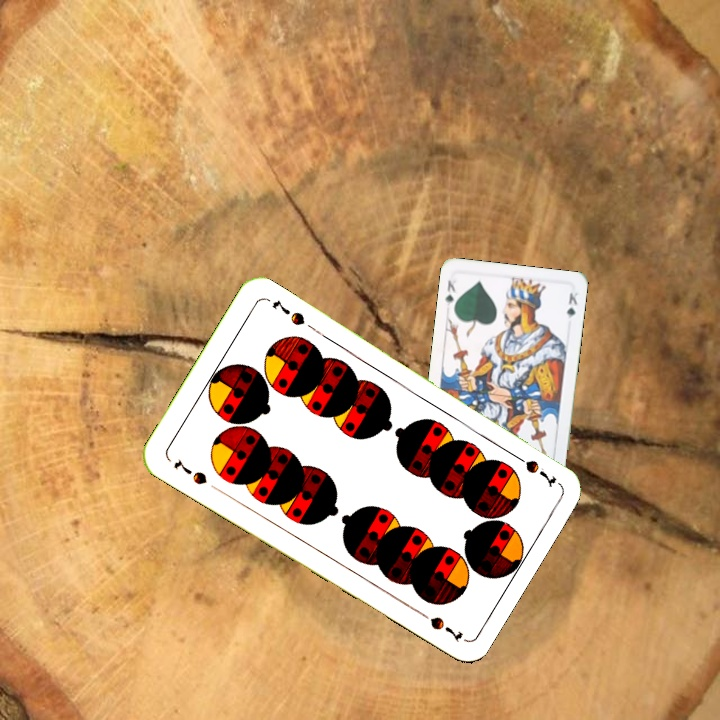GK: (441, 276, 459, 308)
S7: (507, 449, 559, 490), (169, 455, 210, 488)
